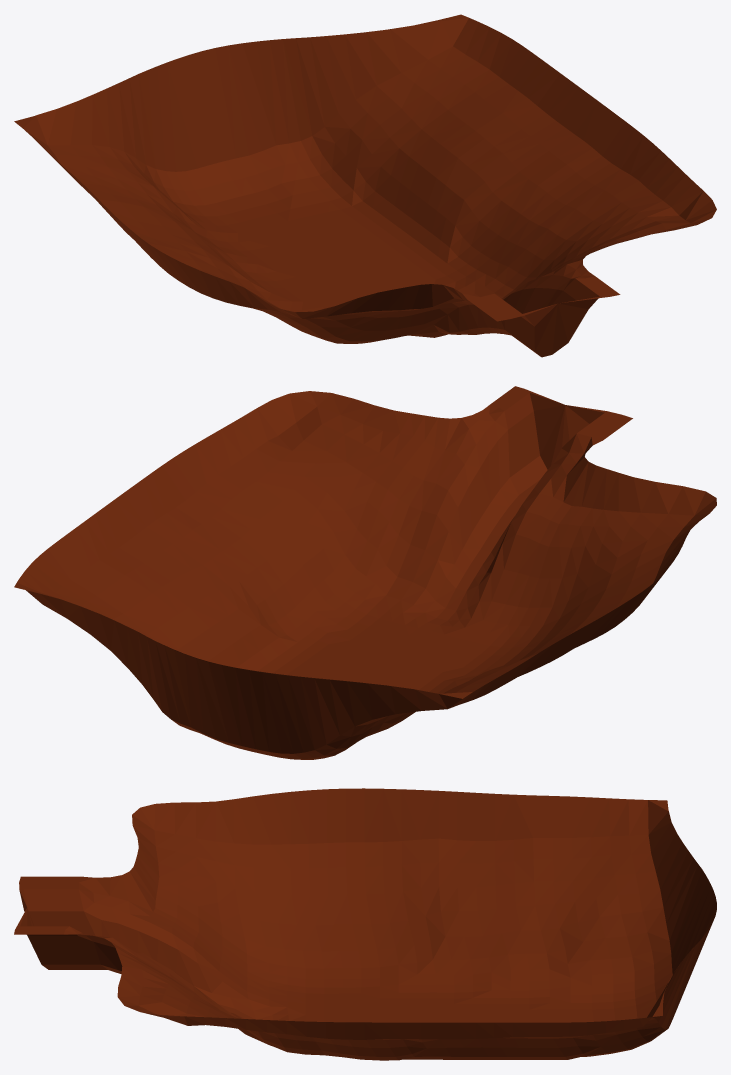
File: Lake Bottom.obj
3 renders of one model, top to bottom at view 1: azimuth 30°, elevation 25°; view 2: azimuth 150°, elevation 25°; view 3: azimuth 270°, elevation 25°, orthographic. The views are drawn at different scales.
Parts seen in each view (by area): view 1: Lake_Bed_Plane.003; view 2: Lake_Bed_Plane.003; view 3: Lake_Bed_Plane.003.
Part boxes in pixels (x1,y1,x2,y2): Lake_Bed_Plane.003: [14, 14, 716, 357]; Lake_Bed_Plane.003: [14, 386, 716, 759]; Lake_Bed_Plane.003: [14, 788, 716, 1060].
Bounding box in the file's own units: 160 × 37.77 × 202.
